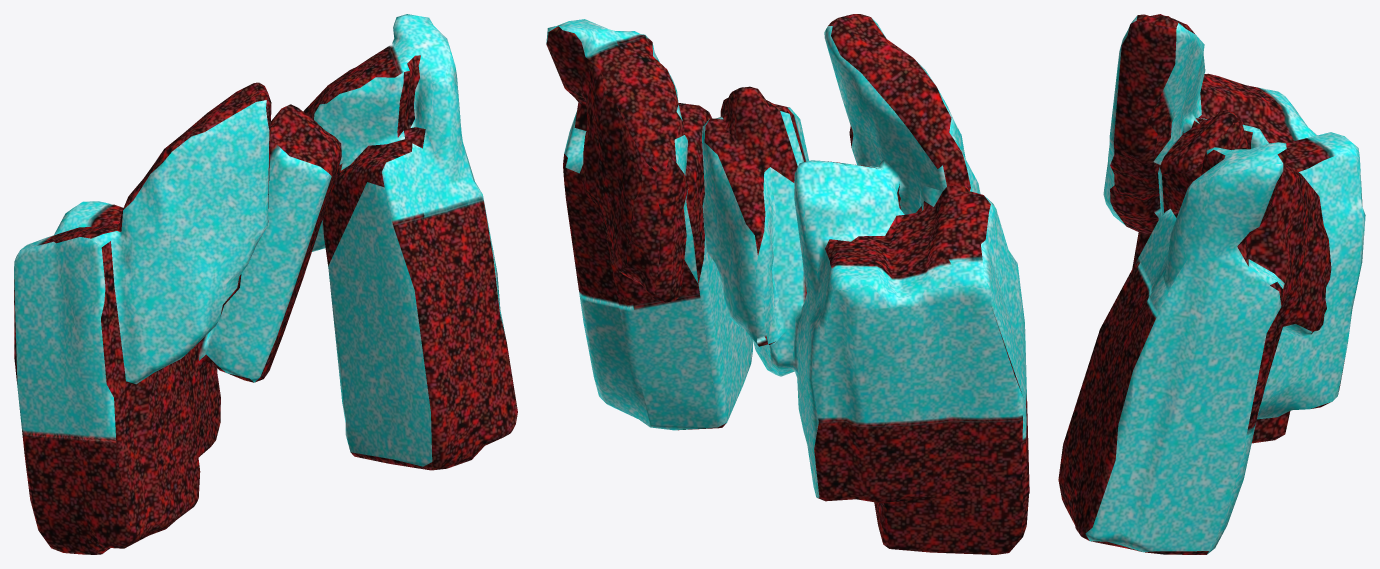
3 renders of one model, left to right at view 1: azimuth 30°, elevation 25°; view 2: azimuth 150°, elevation 25°; view 3: azimuth 270°, elevation 25°, orthographic. The views are drawn at different scales.
Visible parts, largest first — view 1: SM_L_World_MainGrid_L0_X8_Y3_0_ShadowProxy_LOD0; view 2: SM_L_World_MainGrid_L0_X8_Y3_0_ShadowProxy_LOD0; view 3: SM_L_World_MainGrid_L0_X8_Y3_0_ShadowProxy_LOD0.
Boxes of the visible parts, x1,y1,x2,y2 form: SM_L_World_MainGrid_L0_X8_Y3_0_ShadowProxy_LOD0: [14, 14, 517, 554]; SM_L_World_MainGrid_L0_X8_Y3_0_ShadowProxy_LOD0: [546, 14, 1029, 554]; SM_L_World_MainGrid_L0_X8_Y3_0_ShadowProxy_LOD0: [1058, 14, 1365, 554].
Size of the model in its own units: 281 by 274 by 159.
1 material, 1 textured.
